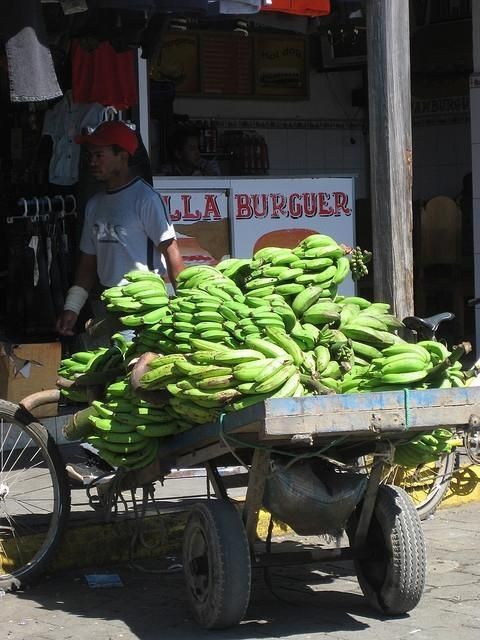bicycle: (382, 313, 480, 519), (0, 403, 62, 590)
